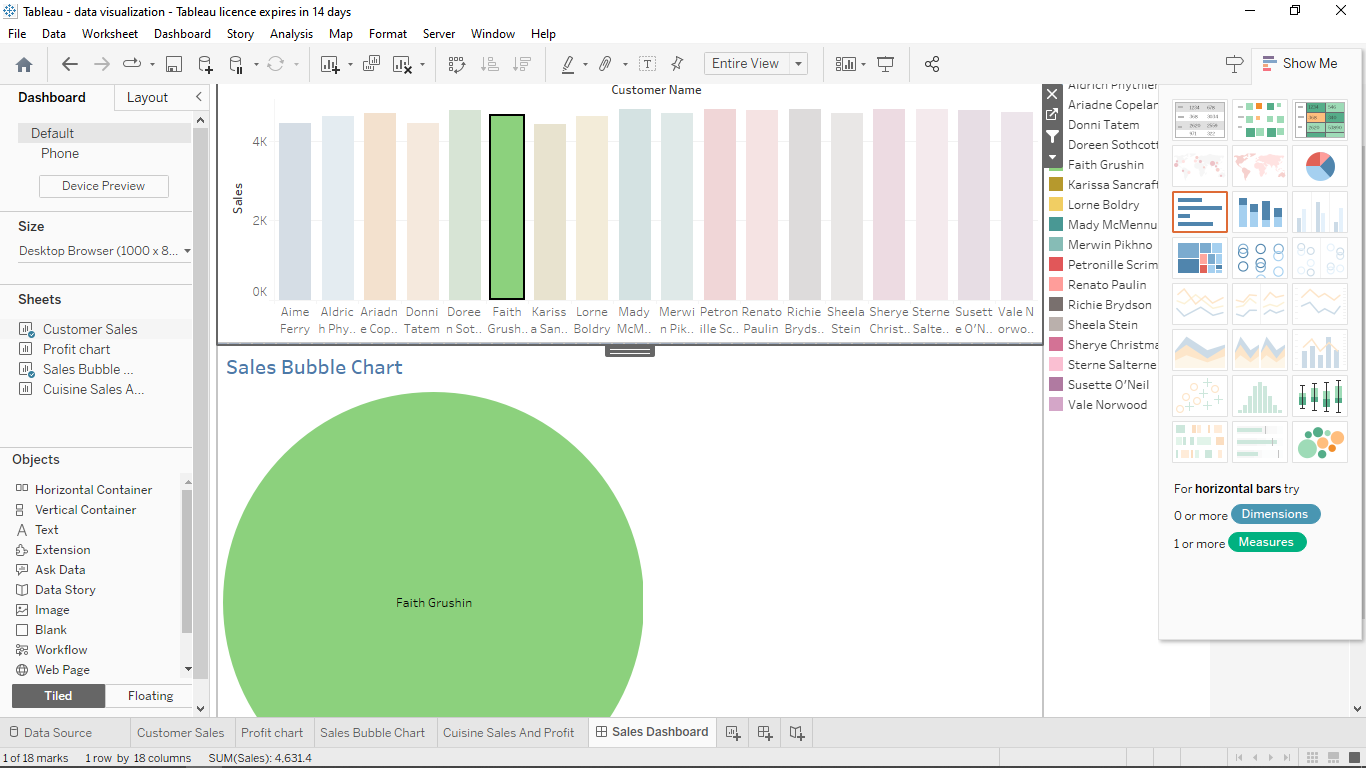

What the dashboard file says about the page in this screenshot:
{"tool":"tableau","page":{"name":"Sales Dashboard","canvas":[1000,800],"ordinal":0},"visuals":[{"type":"worksheet","title":"Customer Sales","mark":"Automatic","rows":["Sales"],"cols":["Customer Name"],"box":[8,8,824,312]},{"type":"legend","title":"Customer Sales","param":"[federated.0zo3off14imy3f12cd5x20ga2peb].[none:Customer Name:nk]","box":[832,8,160,386]},{"type":"worksheet","title":"Sales Bubble Chart","mark":"Circle","box":[8,320,824,472]}]}

Visuals, with their boxes on the page's 1000x800 design canvas (x1, y1, x2, y2). These are canvas units, not pixel positions in the 1366x768 screenshot, which may show the page scaled, cropped or inside an application window:
"Customer Sales" worksheet: crop(8, 8, 832, 320)
"Customer Sales" legend: crop(832, 8, 992, 394)
"Sales Bubble Chart" worksheet (Circle marks): crop(8, 320, 832, 792)
